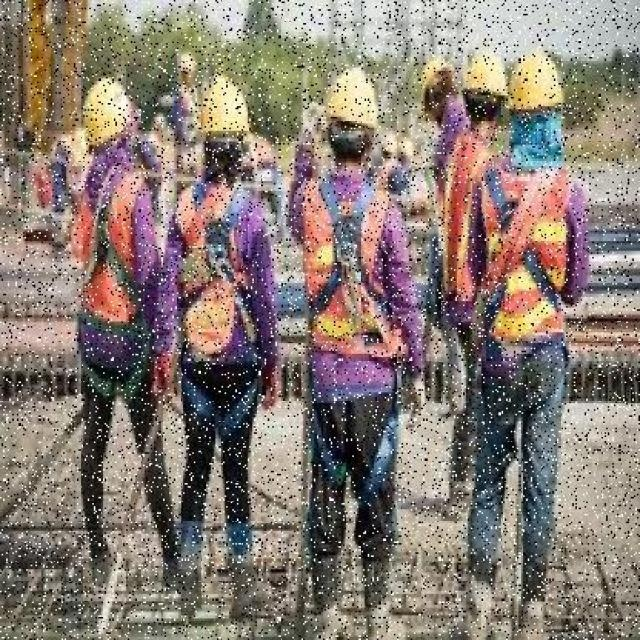Arnes_seguridad: (303, 176, 402, 510), (176, 172, 262, 429), (72, 165, 152, 404), (480, 156, 566, 340)
